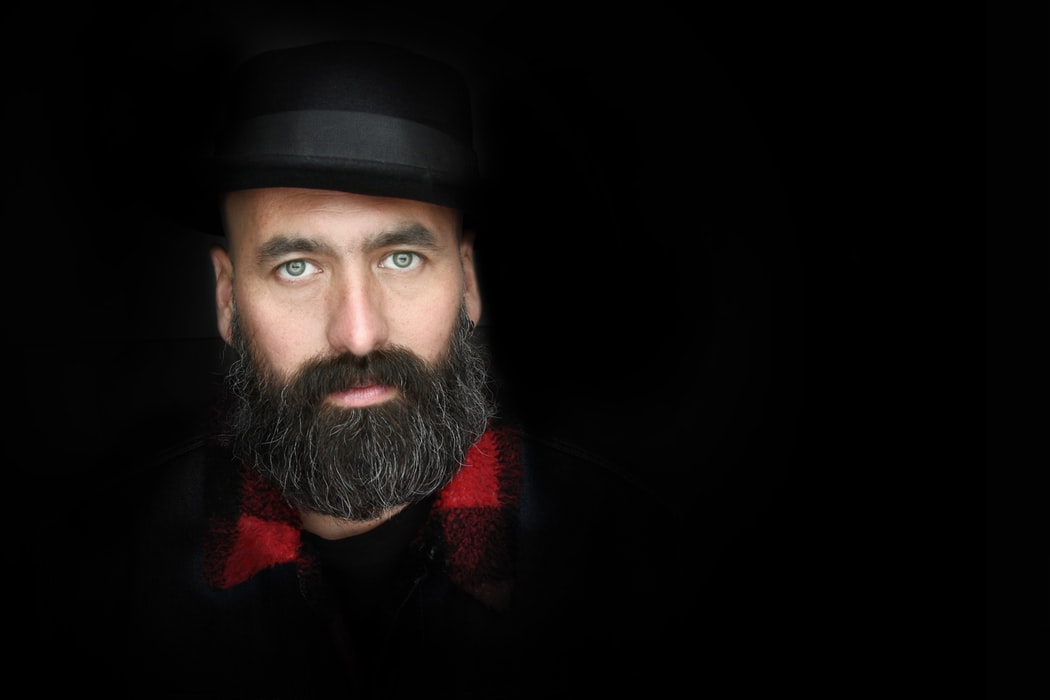beard: (218, 321, 499, 526)
